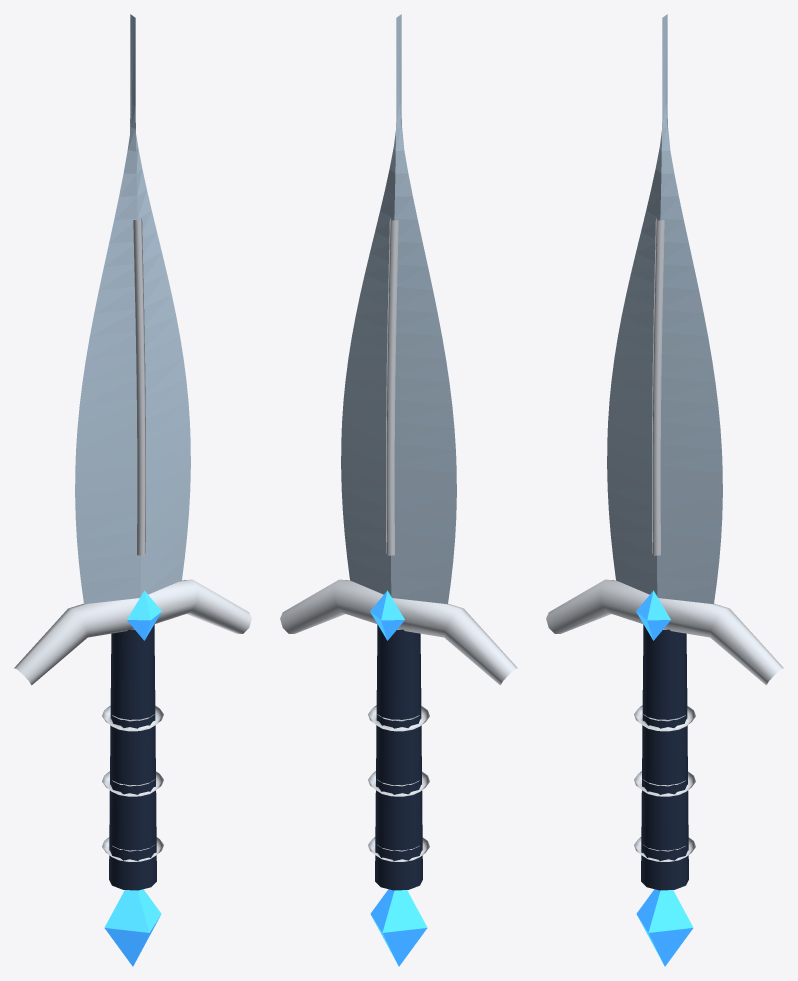
The model's file is dagger_2.glb.
3 views of the same model, side by side, from view 1: azimuth 30°, elevation 25°; view 2: azimuth 150°, elevation 25°; view 3: azimuth 330°, elevation 25° (orthographic).
Parts seen in each view (by area): view 1: dagger_2; view 2: dagger_2; view 3: dagger_2.
Boxes of the visible parts, x1,y1,x2,y2 form: dagger_2: (14, 14, 251, 966); dagger_2: (280, 14, 517, 966); dagger_2: (546, 14, 783, 966).
Size of the model in its own units: 0.2112 by 0.825 by 0.056.
